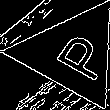P_NW: (37, 25, 107, 83)
